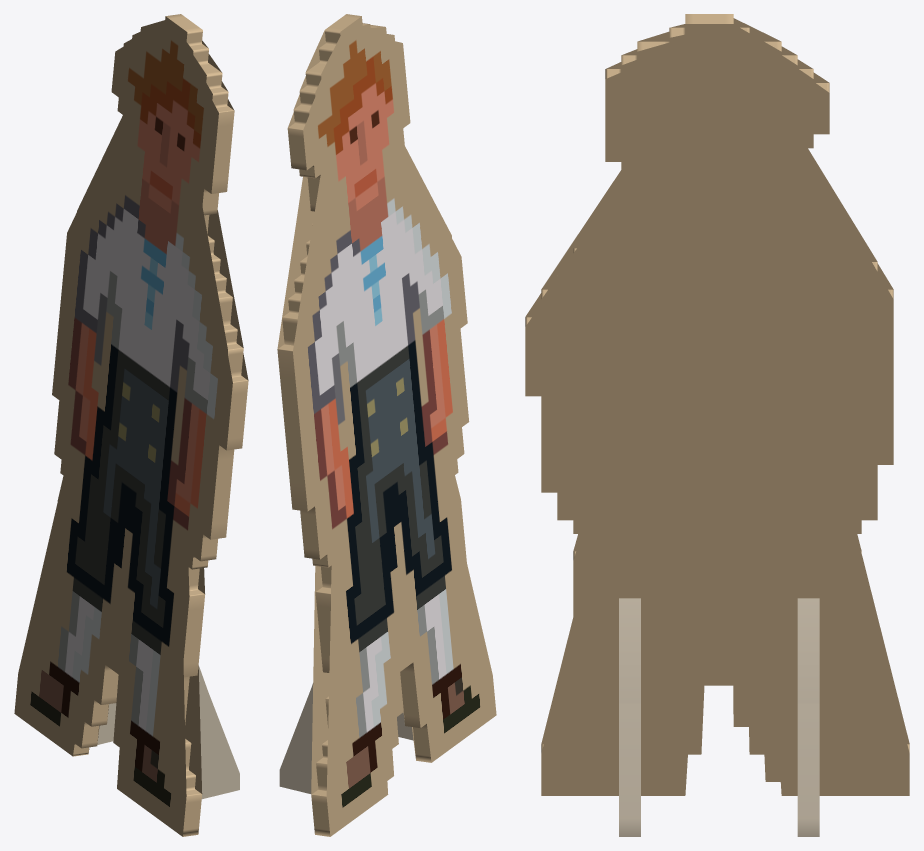
File: guybrush.fbx
3 views of the same model, side by side, from view 1: azimuth 30°, elevation 25°; view 2: azimuth 150°, elevation 25°; view 3: azimuth 270°, elevation 25° (orthographic). The views are drawn at different scales.
Visible parts, largest first — view 1: guybrush_board, support_01, support_02; view 2: guybrush_board, support_02; view 3: guybrush_board, support_02, support_01.
Boxes of the visible parts, x1,y1,x2,y2 form: guybrush_board: (14,14,248,836); support_01: (198,665,239,799); support_02: (97,703,116,744); guybrush_board: (277,14,496,836); support_02: (279,683,313,793); guybrush_board: (525,14,909,795); support_02: (797,598,819,836); support_01: (619,598,640,836).
Bounding box in the file's own units: 0.5301 × 4.05 × 1.74.
